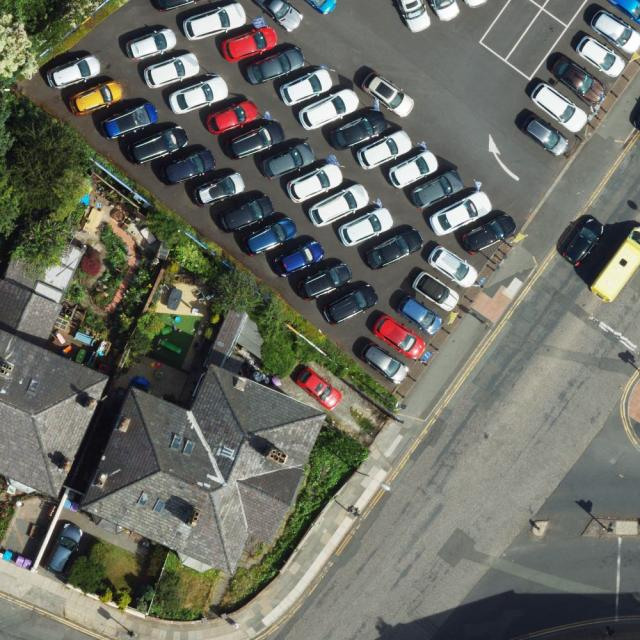roof: (78, 363, 329, 578), (0, 274, 110, 500)
skylight: (135, 488, 153, 510), (151, 496, 169, 517), (26, 375, 42, 397), (169, 433, 185, 452), (183, 437, 196, 458)
